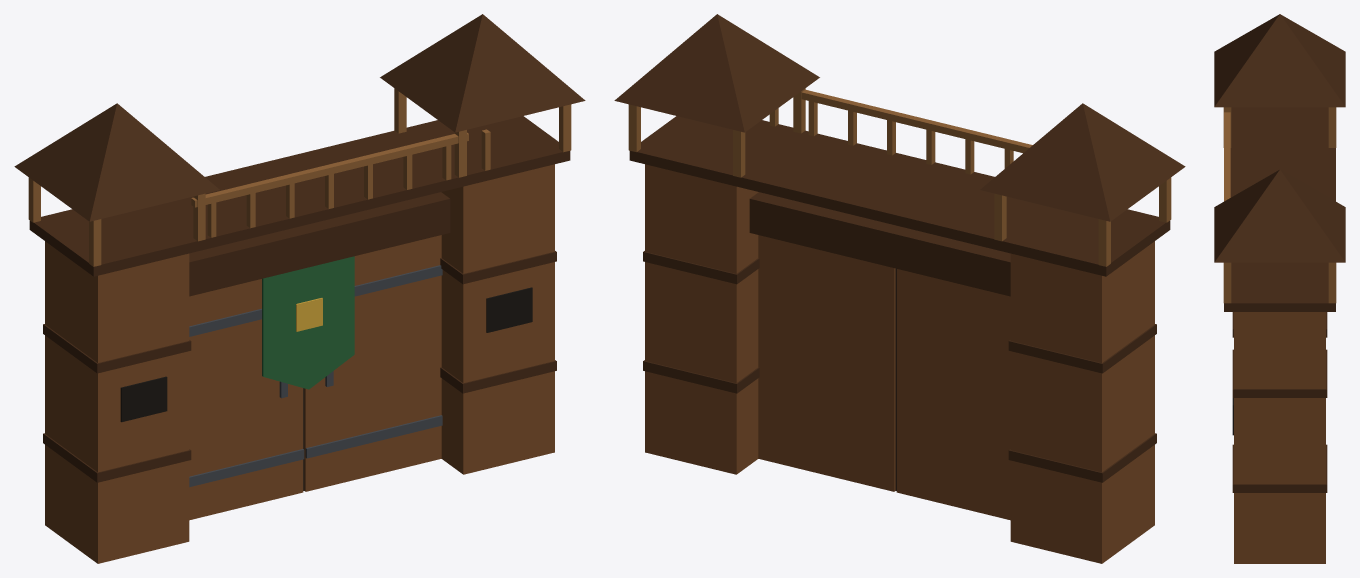
File: camp_gate.glb
3 renders of one model, left to right at view 1: azimuth 30°, elevation 25°; view 2: azimuth 150°, elevation 25°; view 3: azimuth 270°, elevation 25°, orthographic. The views are drawn at different scales.
Visible parts, largest first — view 1: camp_gate; view 2: camp_gate; view 3: camp_gate.
Part boxes in pixels (left/top/right/bottom): camp_gate: left=14, top=14, right=585, bottom=563; camp_gate: left=614, top=14, right=1185, bottom=563; camp_gate: left=1214, top=14, right=1345, bottom=563.
Size of the model in its own units: 7.6 by 6.3 by 2.
1 material, 1 textured.
